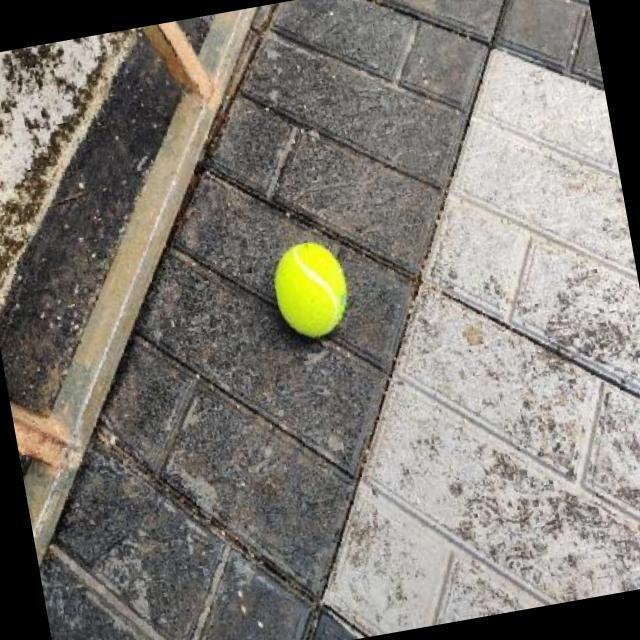-: (247, 220, 371, 373)
